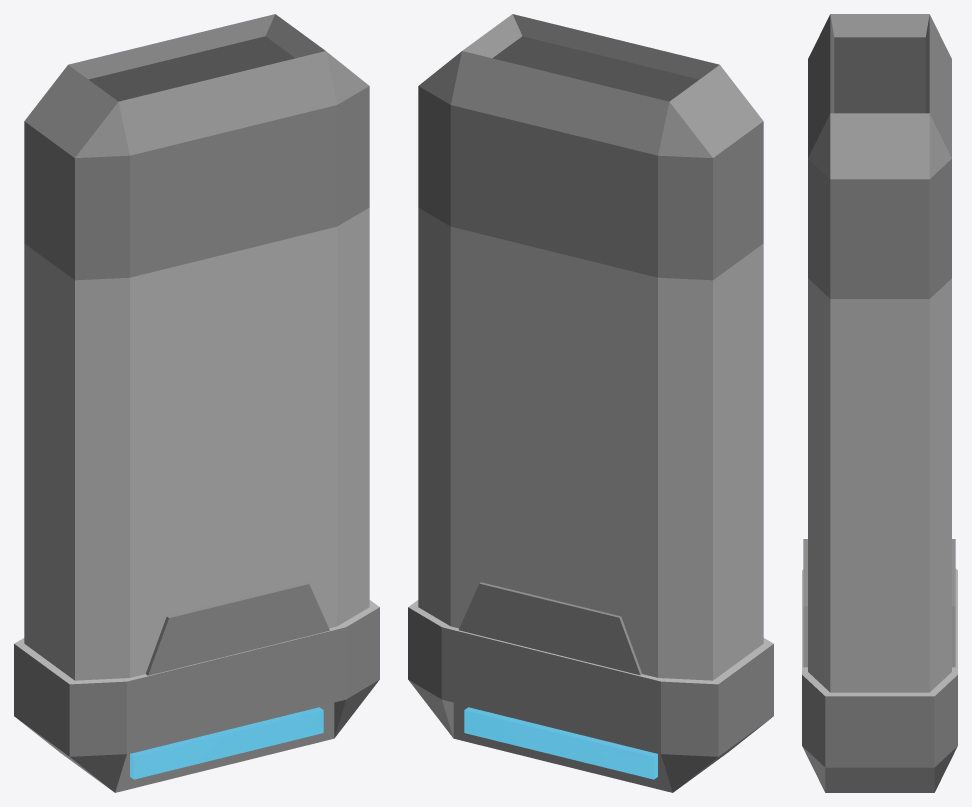
File: SM_Mag_S.fbx
3 renders of one model, left to right at view 1: azimuth 30°, elevation 25°; view 2: azimuth 150°, elevation 25°; view 3: azimuth 270°, elevation 25°, orthographic.
Visible parts, largest first — view 1: SM_Mag_S; view 2: SM_Mag_S; view 3: SM_Mag_S.
Boxes of the visible parts, bbox=[...] form: SM_Mag_S: bbox=[14, 14, 379, 792]; SM_Mag_S: bbox=[408, 14, 773, 792]; SM_Mag_S: bbox=[802, 14, 957, 792].
Size of the model in its own units: 4.68 by 9.91 by 2.06.
